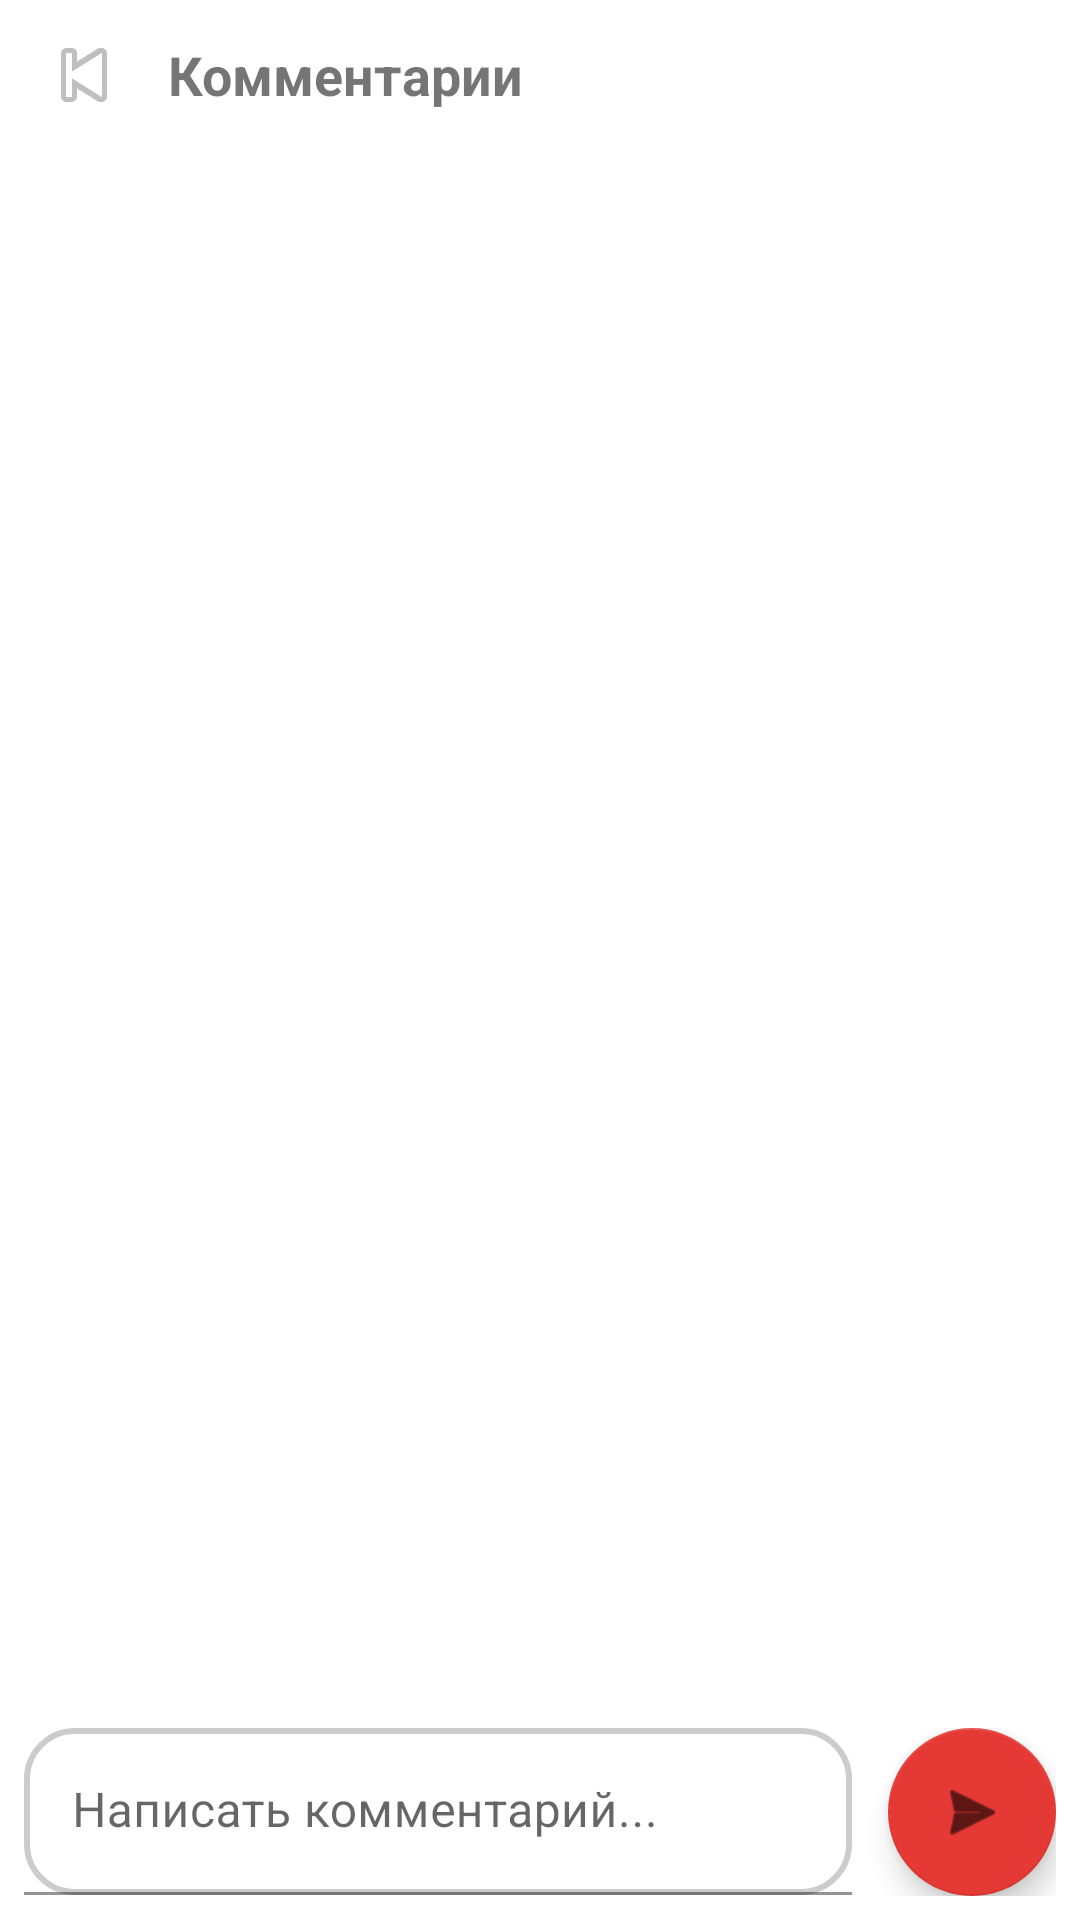

Named icons in this screenshot (1080w x 1920h) and their centers, point (x, y):
previous: point (84, 75)
send: point (972, 1812)
